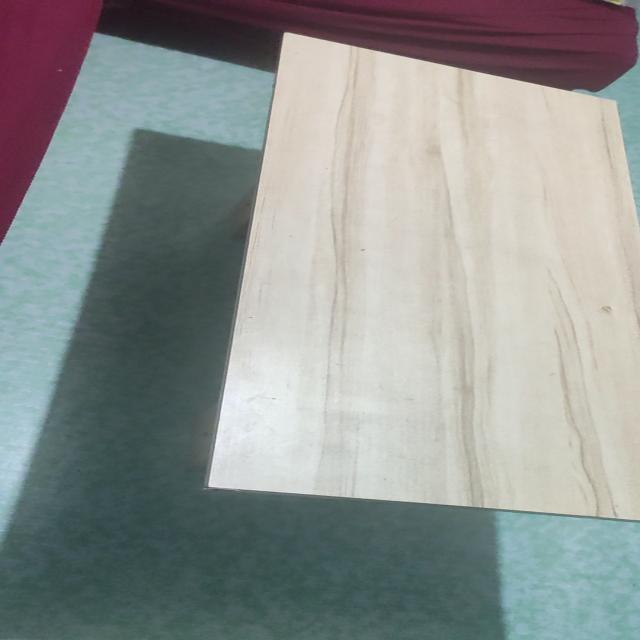table: (178, 29, 640, 541)
